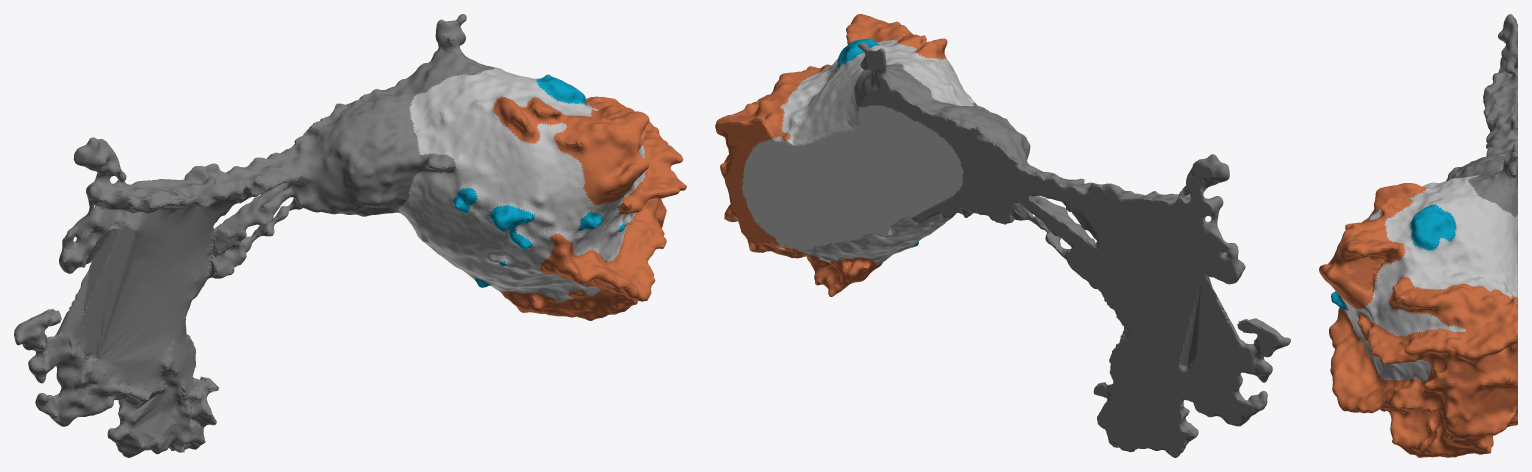
3 renders of one model, left to right at view 1: azimuth 30°, elevation 25°; view 2: azimuth 150°, elevation 25°; view 3: azimuth 270°, elevation 25°, orthographic. The views are drawn at different scales.
Bounding box in the file's own units: 257 × 145 × 77.93.
